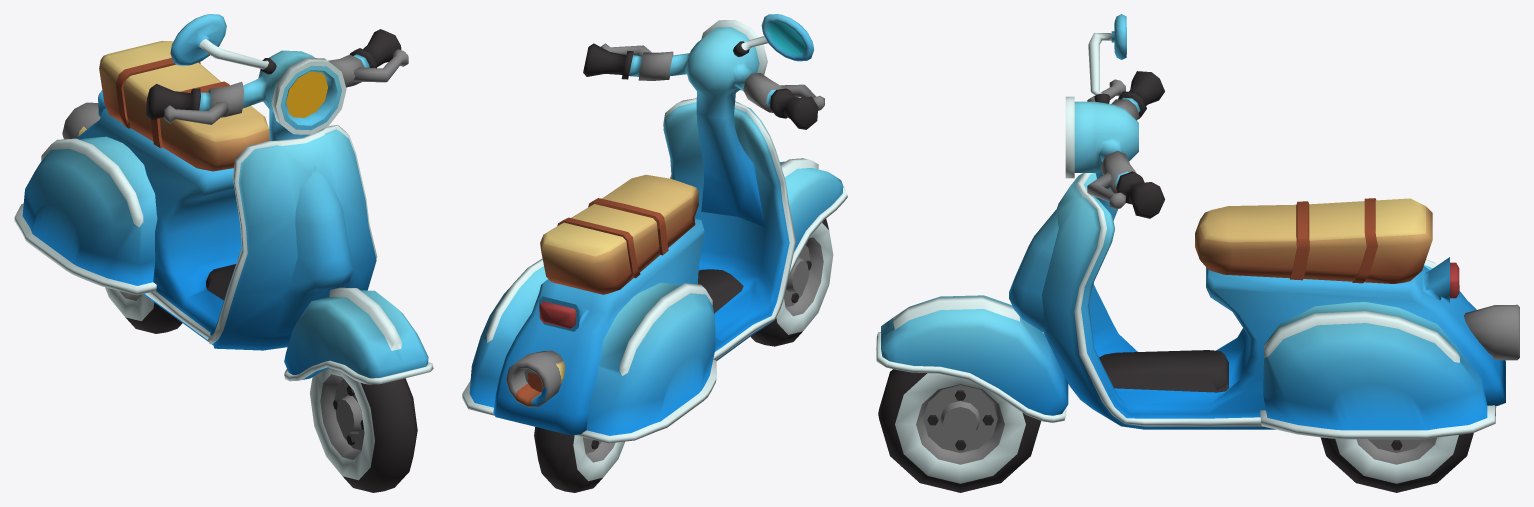
Rendered from ScooterBike.fbx.
3 views of the same model, side by side, from view 1: azimuth 30°, elevation 25°; view 2: azimuth 150°, elevation 25°; view 3: azimuth 270°, elevation 25° (orthographic). The views are drawn at different scales.
Visible parts, largest first — view 1: ScooterBike; view 2: ScooterBike; view 3: ScooterBike.
Boxes of the visible parts, box(x1,y1,x2,y2) form: ScooterBike: box(14, 14, 433, 492); ScooterBike: box(462, 14, 847, 492); ScooterBike: box(876, 14, 1519, 492).
Size of the model in its own units: 125 by 205 by 276.
